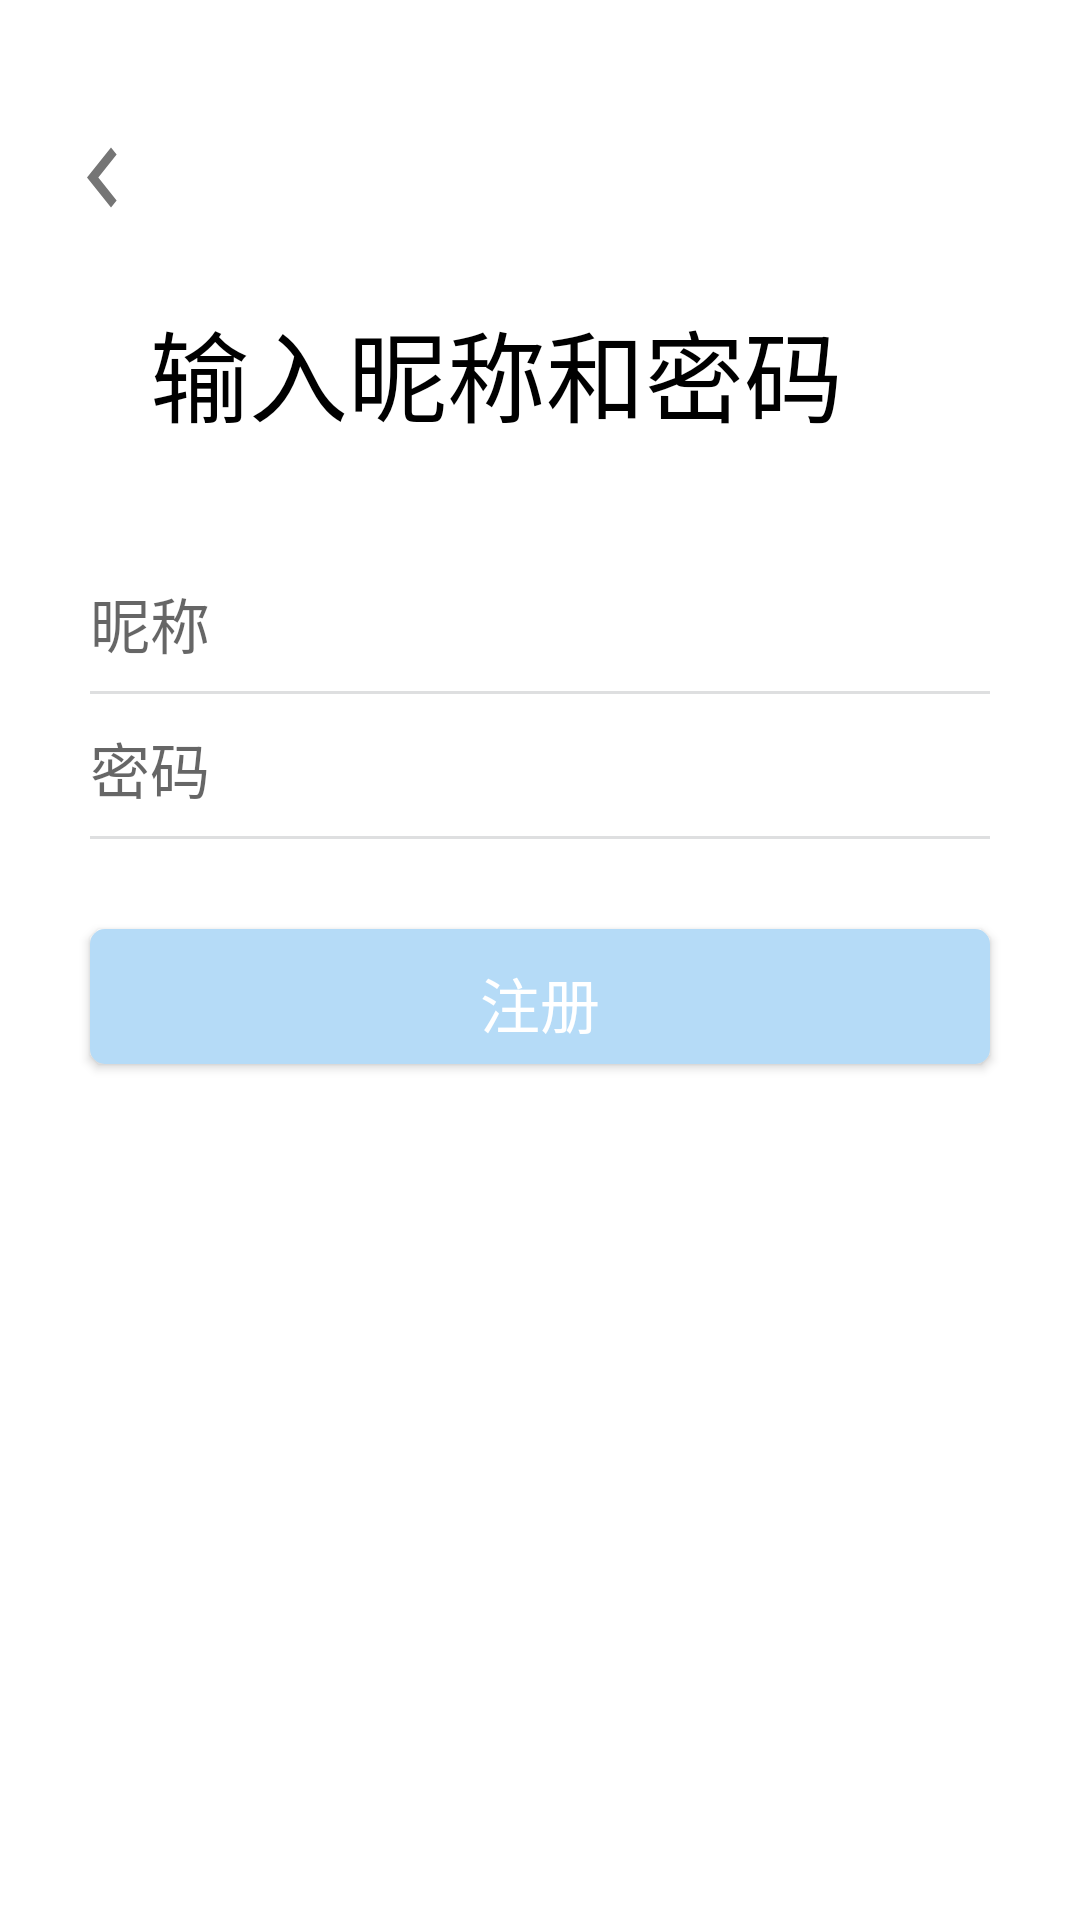

Icons on this 1080*1920 Android screen, each with the point to tap as (x,y):
back: (102,177)
